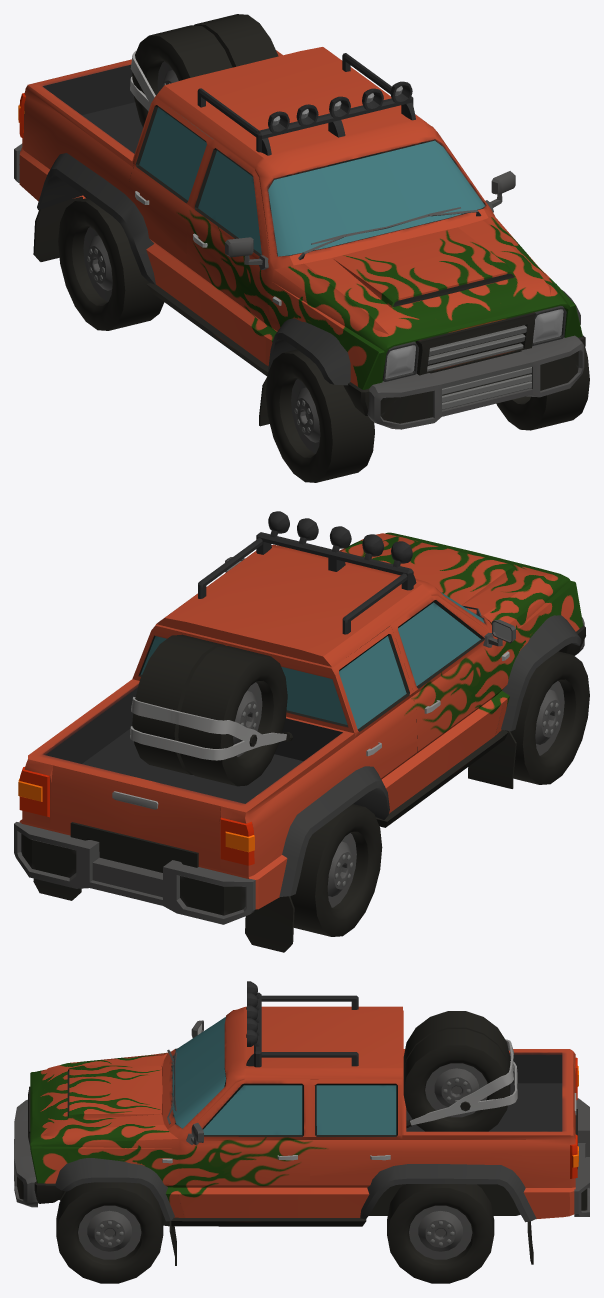
File: Truck-Extras.fbx
3 views of the same model, one above another, from view 1: azimuth 30°, elevation 25°; view 2: azimuth 150°, elevation 25°; view 3: azimuth 270°, elevation 25° (orthographic). The views are drawn at different scales.
Visible parts, largest first — view 1: Truck, RtWheel1, RtWheel2, LftWheel1; view 2: Truck, RtWheel2, RtWheel1; view 3: Truck, LftWheel1, LftWheel2.
Boxes of the visible parts, x1=… form: Truck: x1=14, y1=14, x2=585, y2=429; RtWheel1: x1=265, y1=349, x2=374, y2=482; RtWheel2: x1=58, y1=198, x2=164, y2=330; LftWheel1: x1=496, y1=347, x2=589, y2=430; Truck: x1=14, y1=511, x2=585, y2=952; RtWheel2: x1=290, y1=804, x2=382, y2=936; RtWheel1: x1=510, y1=651, x2=589, y2=784; Truck: x1=14, y1=981, x2=589, y2=1265; LftWheel1: x1=56, y1=1182, x2=163, y2=1283; LftWheel2: x1=387, y1=1184, x2=494, y2=1283.
Bounding box in the file's own units: 235 × 223 × 512.
1 material, 1 textured.
